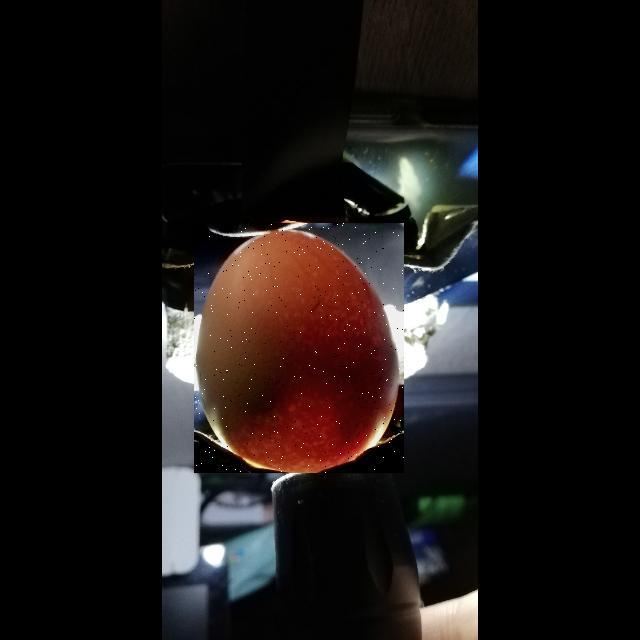Fertile: (194, 223, 404, 473)
